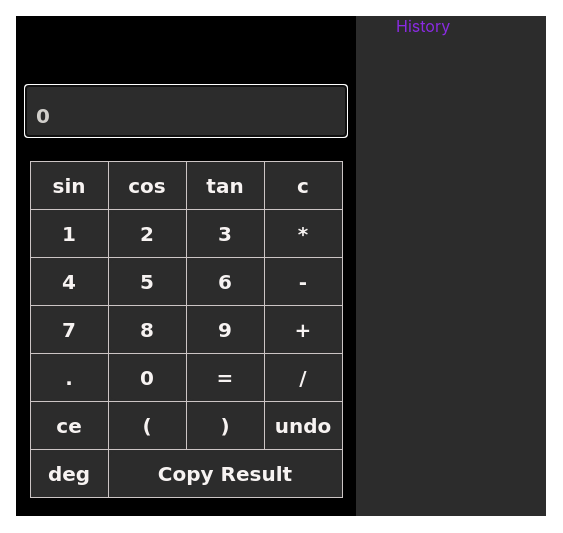
Test: App › test add operation
Click the button with test id "button1" at (69, 234), box [32, 211, 106, 256]
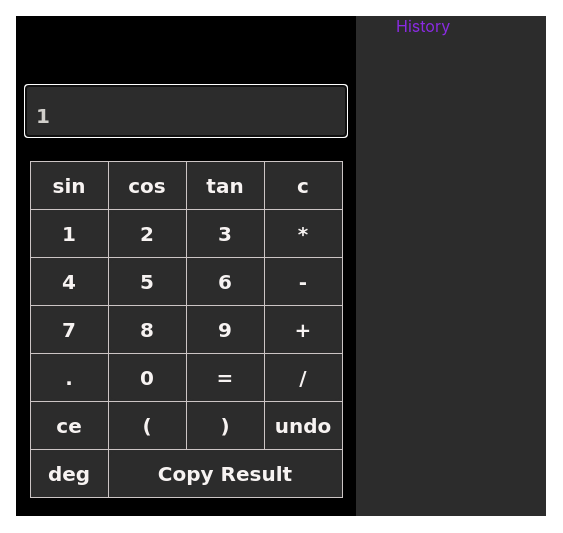
Expected: the field with test id "input" holds "1", [26, 86, 346, 136]
Click the button with test id "button2" at (147, 234), box [110, 211, 184, 256]
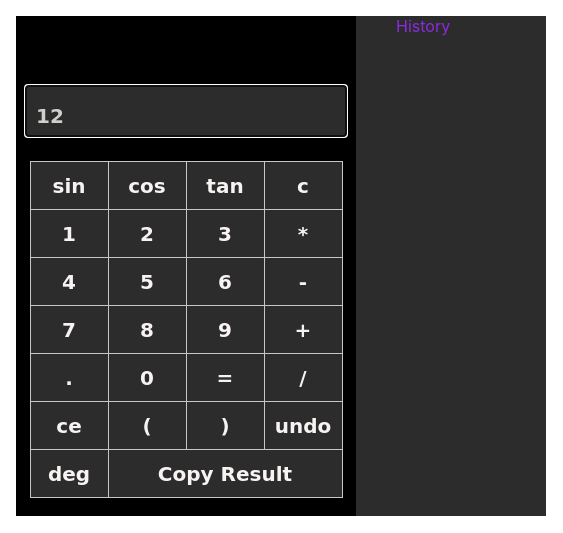
Expected: the field with test id "input" holds "12", [26, 86, 346, 136]
Click the button with test id "button+" at (303, 330), box [266, 307, 340, 352]
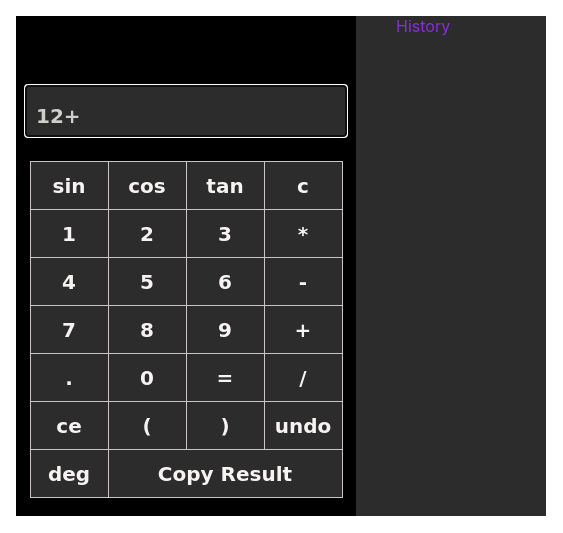
Expected: the field with test id "input" holds "12+", [26, 86, 346, 136]
Click the button with test id "button7" at (69, 330), box [32, 307, 106, 352]
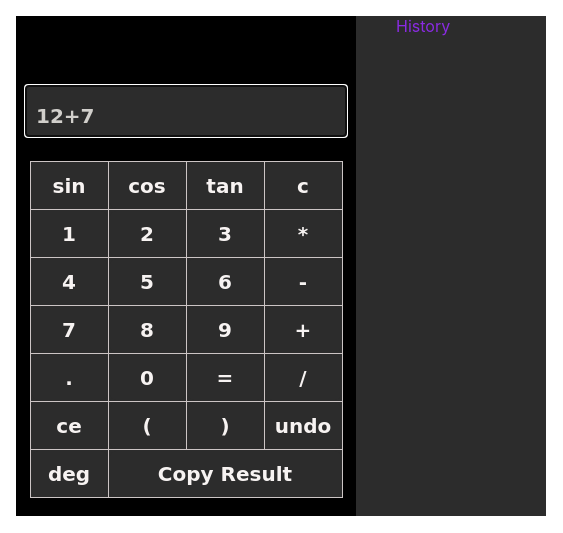
Expected: the field with test id "input" holds "12+7", [26, 86, 346, 136]
Click the button with test id "button=" at (225, 378), box [188, 355, 262, 400]
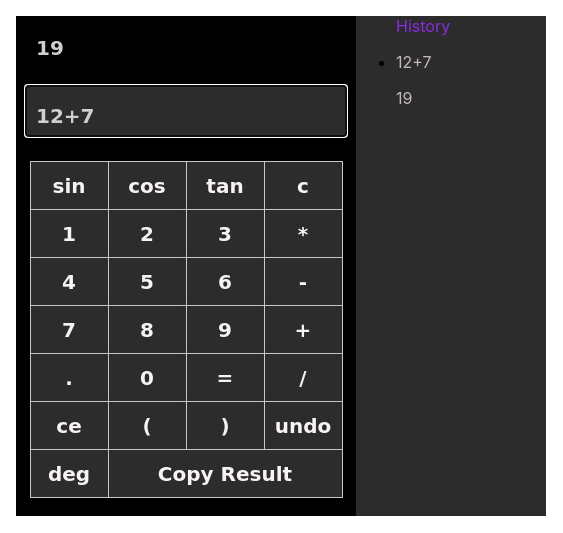
Expected: the text with id "result" reads "19", [36, 36, 64, 60]
